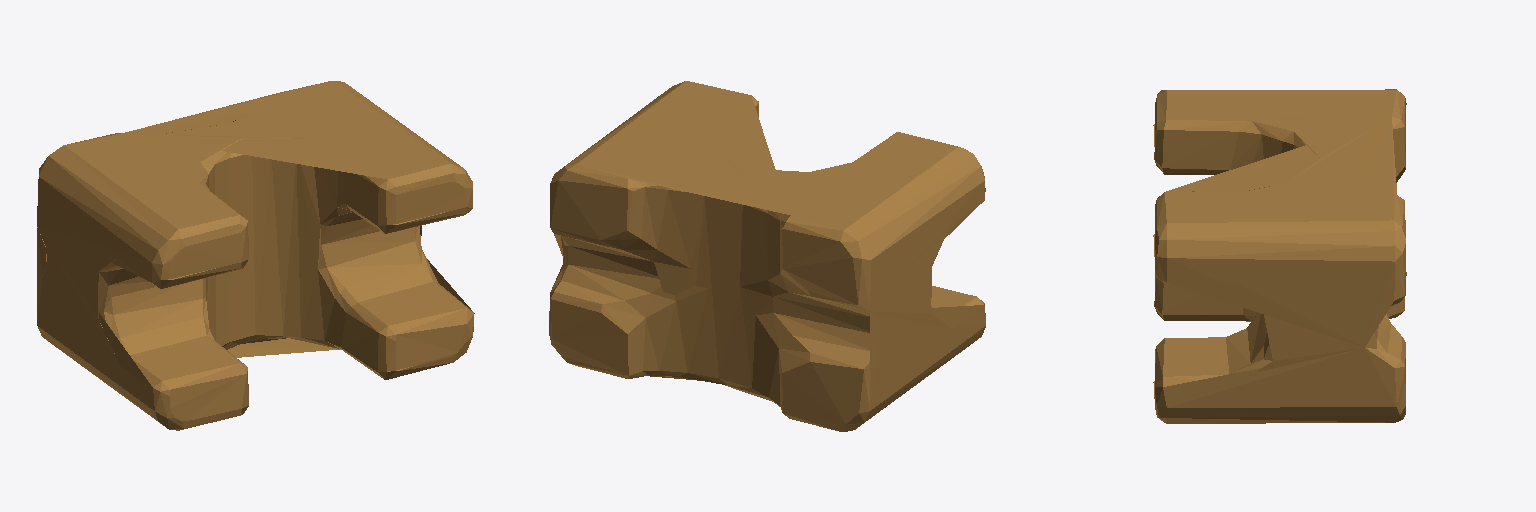
3 views of the same model, side by side, from view 1: azimuth 30°, elevation 25°; view 2: azimuth 150°, elevation 25°; view 3: azimuth 270°, elevation 25° (orthographic).
Parts seen in each view (by area): view 1: kies; view 2: kies; view 3: kies.
Boxes of the visible parts, <box> form: kies: <box>37,81,474,430</box>; kies: <box>549,81,985,431</box>; kies: <box>1153,89,1406,423</box>.
Size of the model in its own units: 2.4 by 1.44 by 1.63.